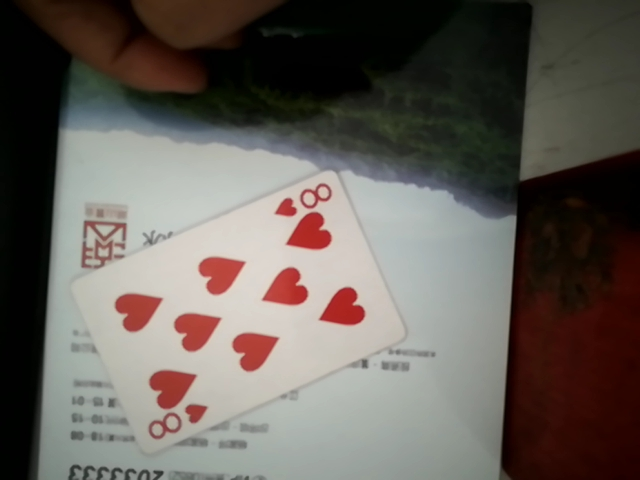hx 8: (77, 160, 401, 448)
